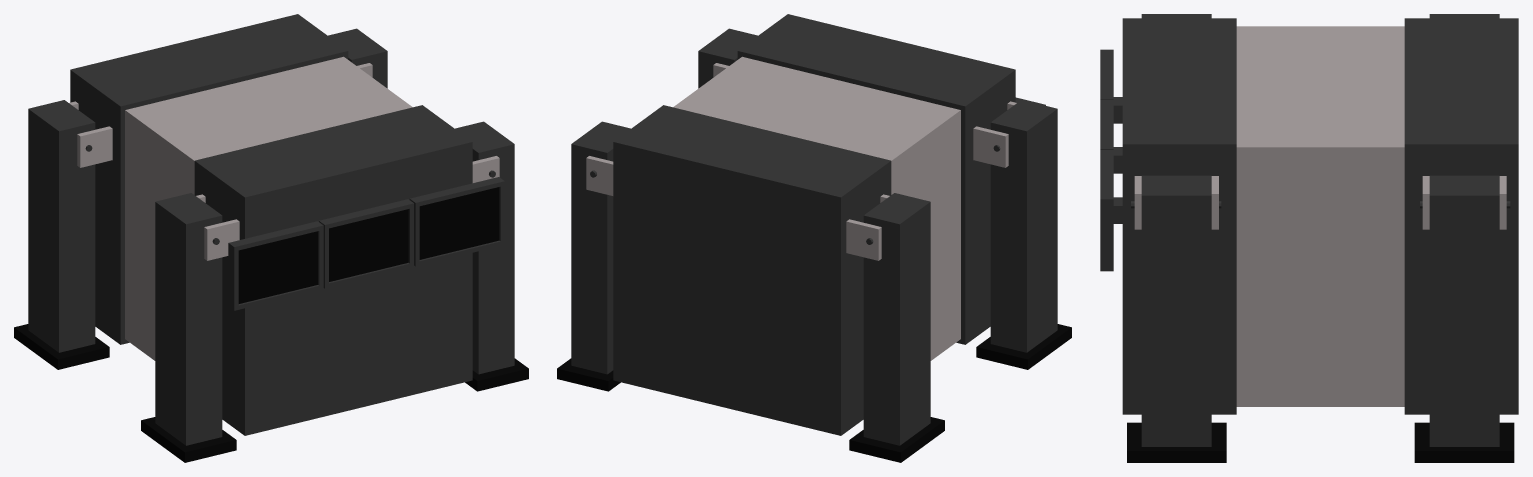
The model's file is AutoMiner.fbx.
3 renders of one model, left to right at view 1: azimuth 30°, elevation 25°; view 2: azimuth 150°, elevation 25°; view 3: azimuth 270°, elevation 25°, orthographic. The views are drawn at different scales.
Parts seen in each view (by area): view 1: AutoMiner; view 2: AutoMiner; view 3: AutoMiner.
Part boxes in pixels (box(x1,y1,x2,y2)): AutoMiner: box(14, 14, 528, 462); AutoMiner: box(557, 14, 1071, 462); AutoMiner: box(1100, 14, 1518, 462).
Bounding box in the file's own units: 91.32 × 64.11 × 84.91.
